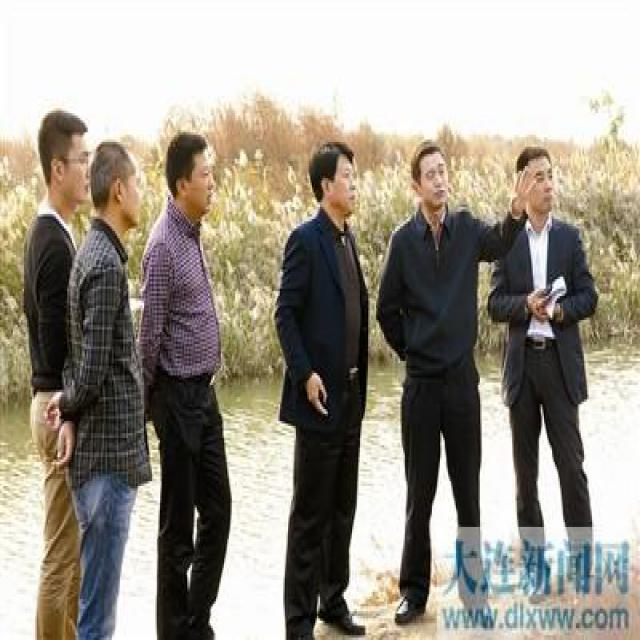head: (33, 100, 95, 215), (88, 136, 147, 239), (163, 126, 217, 222), (307, 138, 358, 222), (512, 134, 557, 223), (408, 133, 451, 220)
person: (373, 127, 501, 622), (138, 132, 250, 639), (266, 137, 380, 634), (489, 141, 619, 537), (66, 141, 149, 640), (16, 106, 92, 634)
